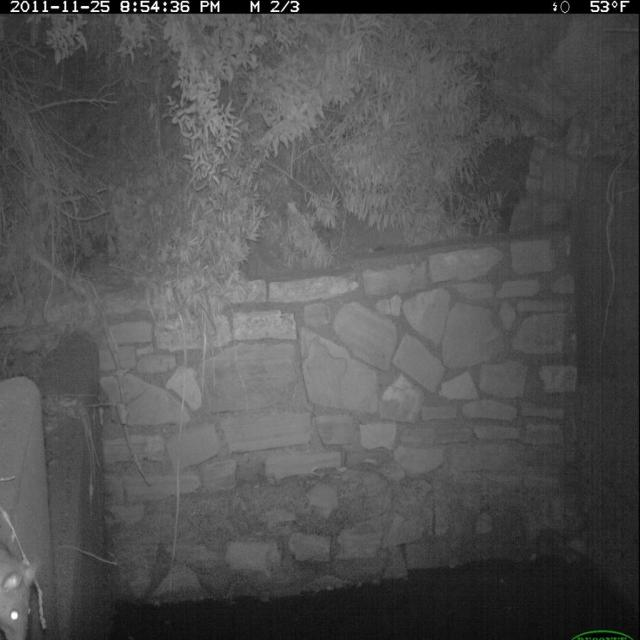rodent: (1, 519, 42, 640)
